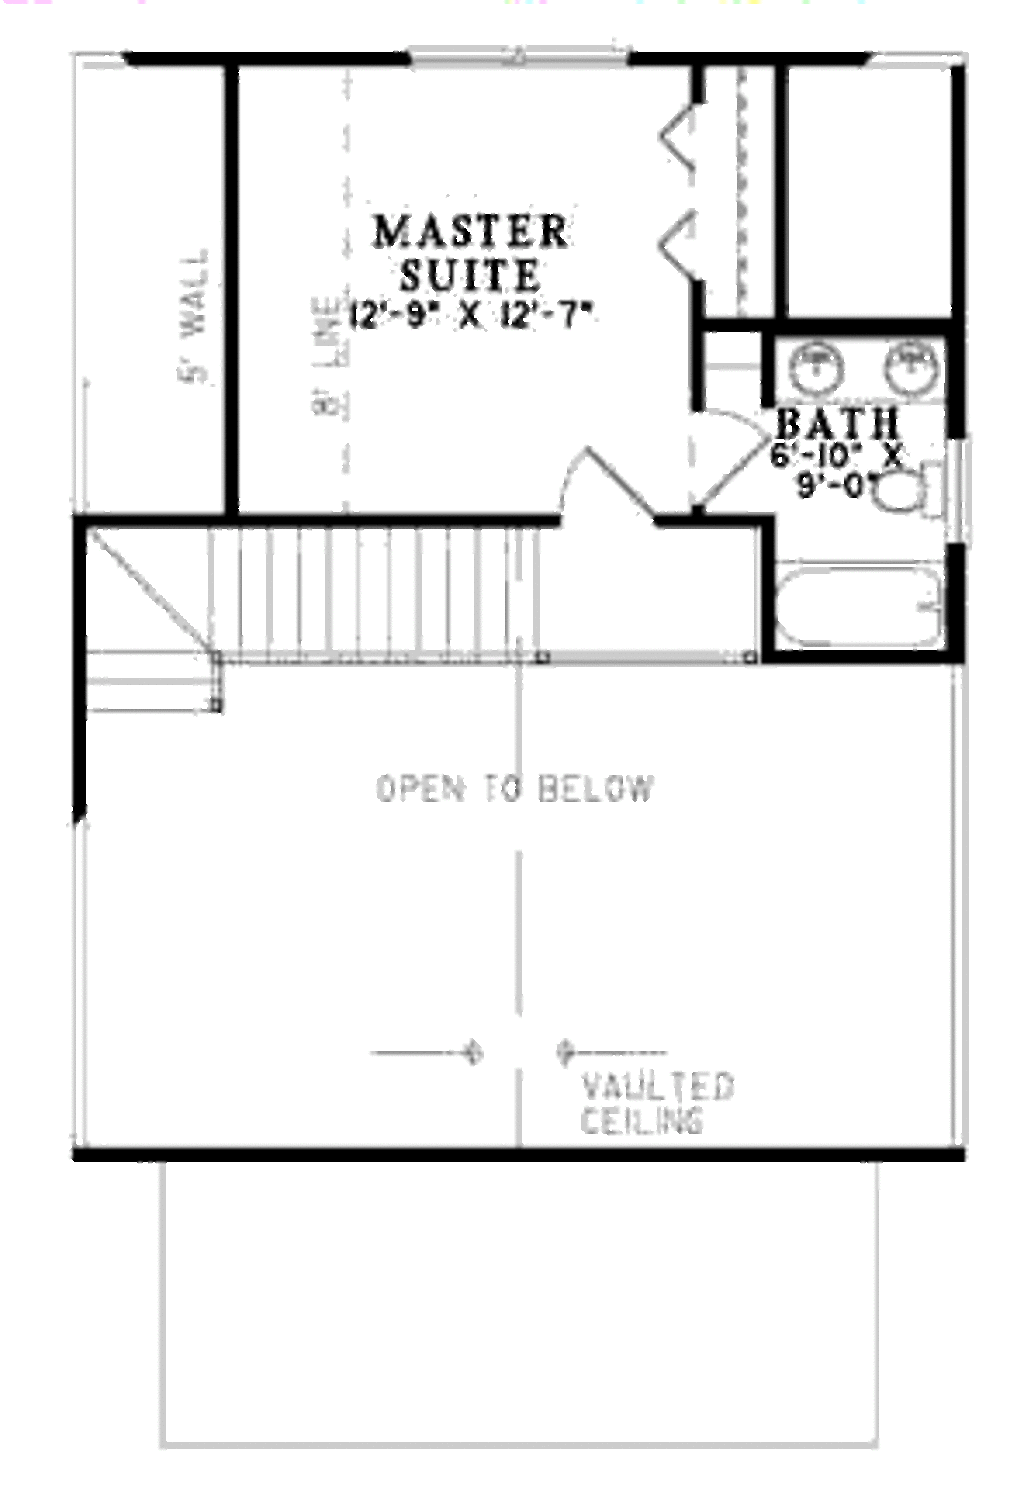door: (558, 446, 665, 547), (692, 405, 772, 516)
large_sink: (853, 455, 958, 534)
small_sink: (777, 325, 949, 403)
stairs: (87, 524, 535, 748)
tub: (772, 547, 942, 662)
window: (415, 46, 644, 94)
